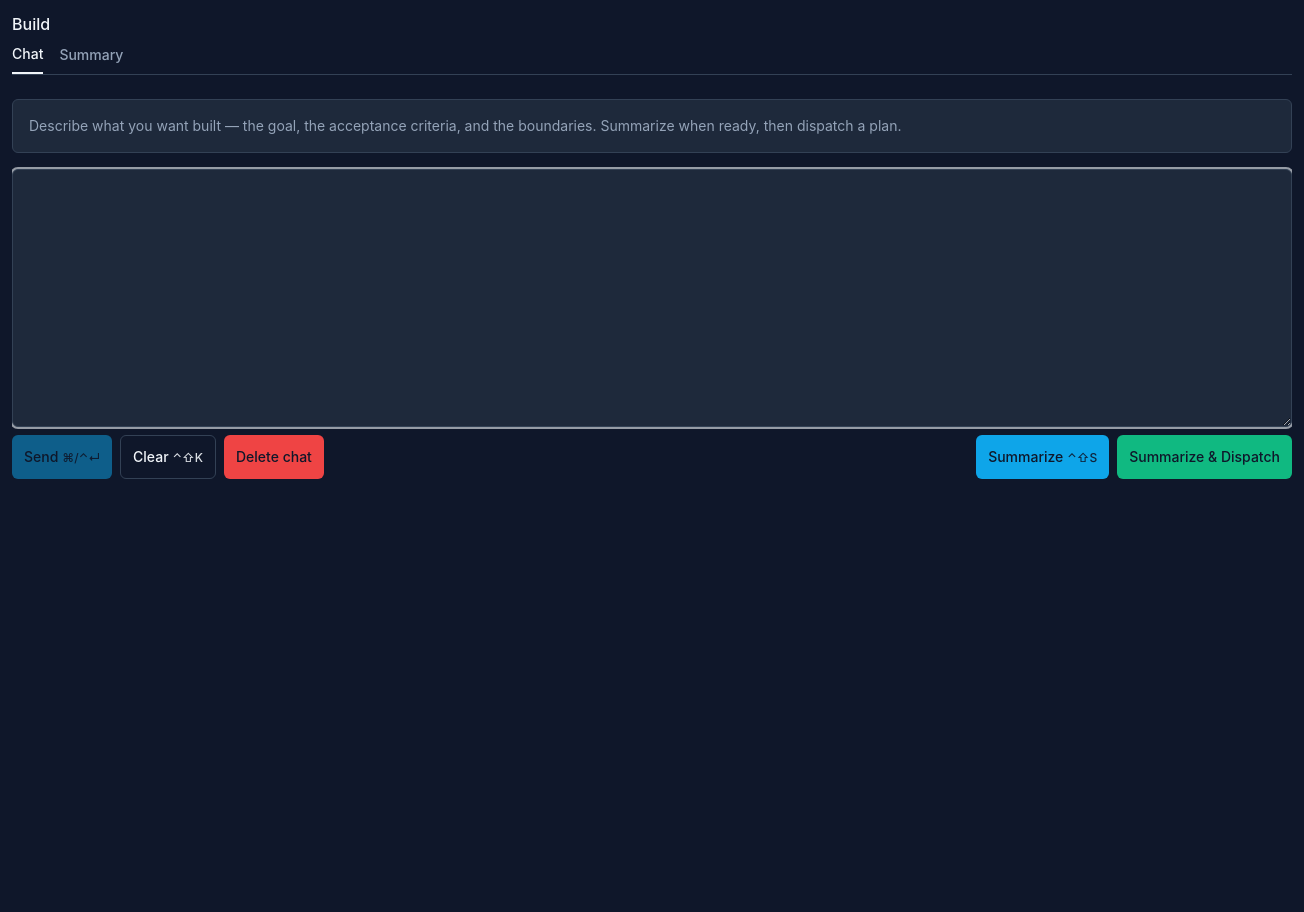
it: BuildChat › Roadmap item dispatch stamp › falls back to the raw roadmap item id when the project lookup has no matching item
Click the button with test id "summarize-button" at (1043, 457), box [976, 435, 1109, 479]
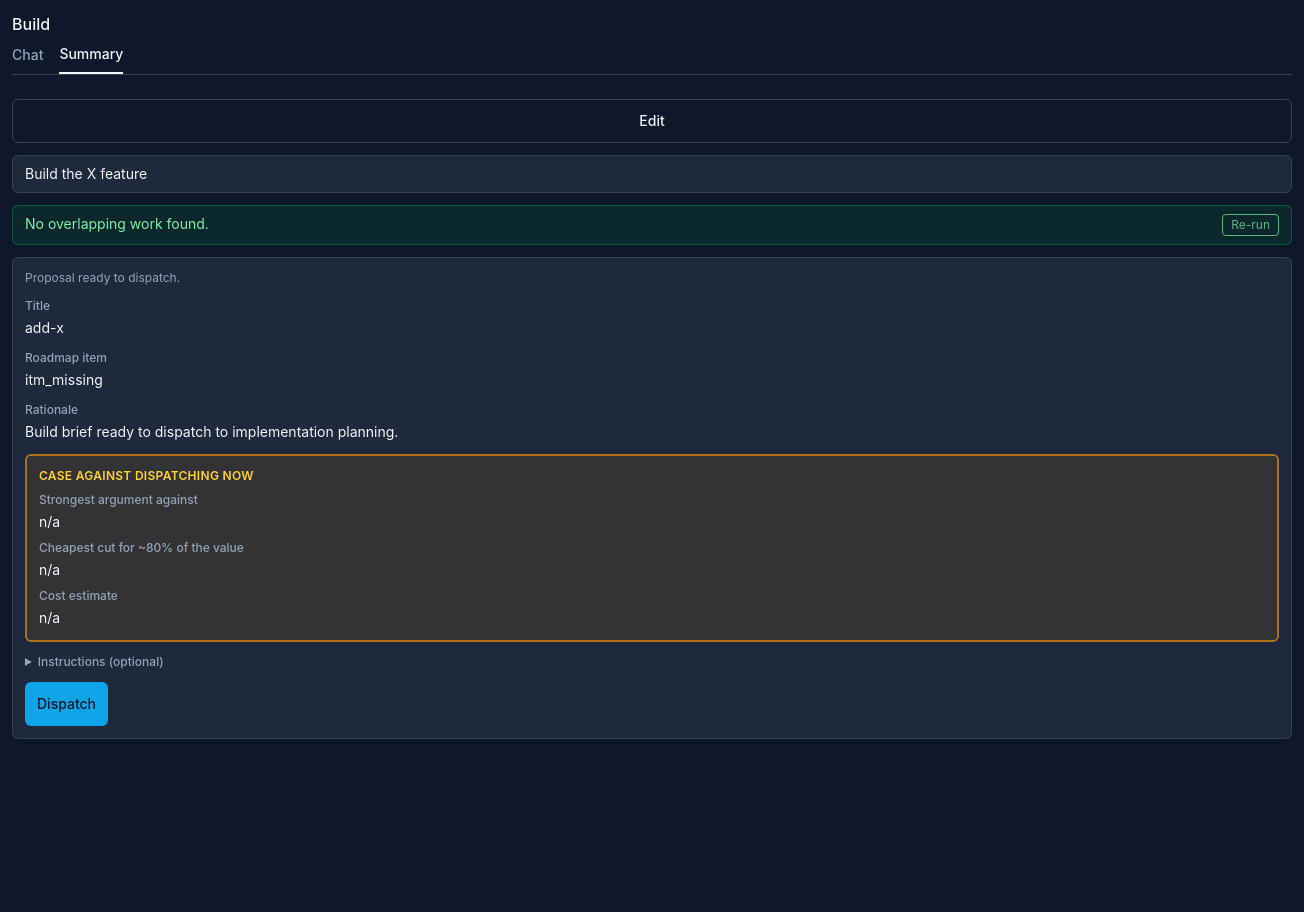
Check: the text with test id "dispatch-proposal-roadmap-item" reads "itm_missing", box [25, 371, 103, 388]
